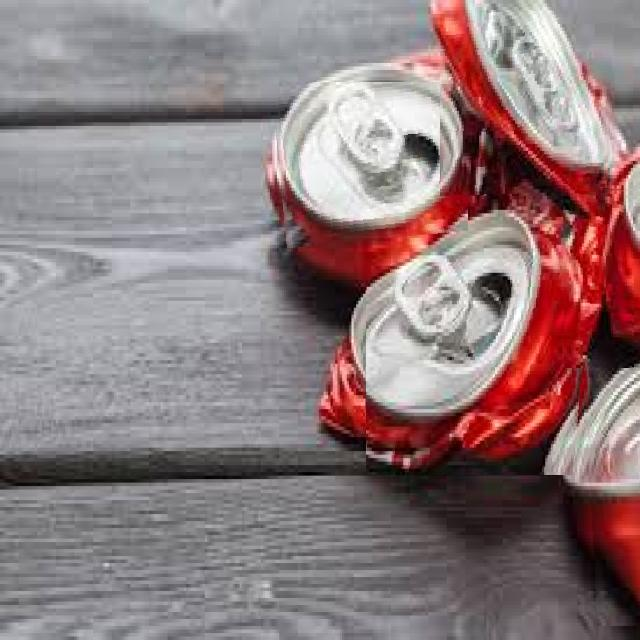Cans: (366, 258, 592, 475), (271, 82, 468, 248), (440, 10, 614, 196), (584, 367, 640, 626), (563, 184, 640, 368)
